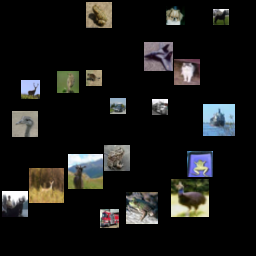airplane: (146, 183, 165, 202)
automobile: (112, 7, 141, 36), (203, 113, 229, 139)
bird: (94, 114, 123, 143), (13, 52, 35, 74), (96, 91, 115, 110)
cat: (191, 197, 217, 223)
deer: (144, 114, 179, 149), (61, 128, 83, 150), (155, 79, 174, 98), (53, 85, 72, 104), (125, 115, 141, 131)
dog: (188, 152, 226, 190), (125, 212, 154, 241), (24, 105, 50, 131), (119, 49, 141, 71)
frog: (19, 11, 54, 46)
ship: (211, 44, 249, 82), (53, 166, 82, 195), (55, 30, 84, 59)
